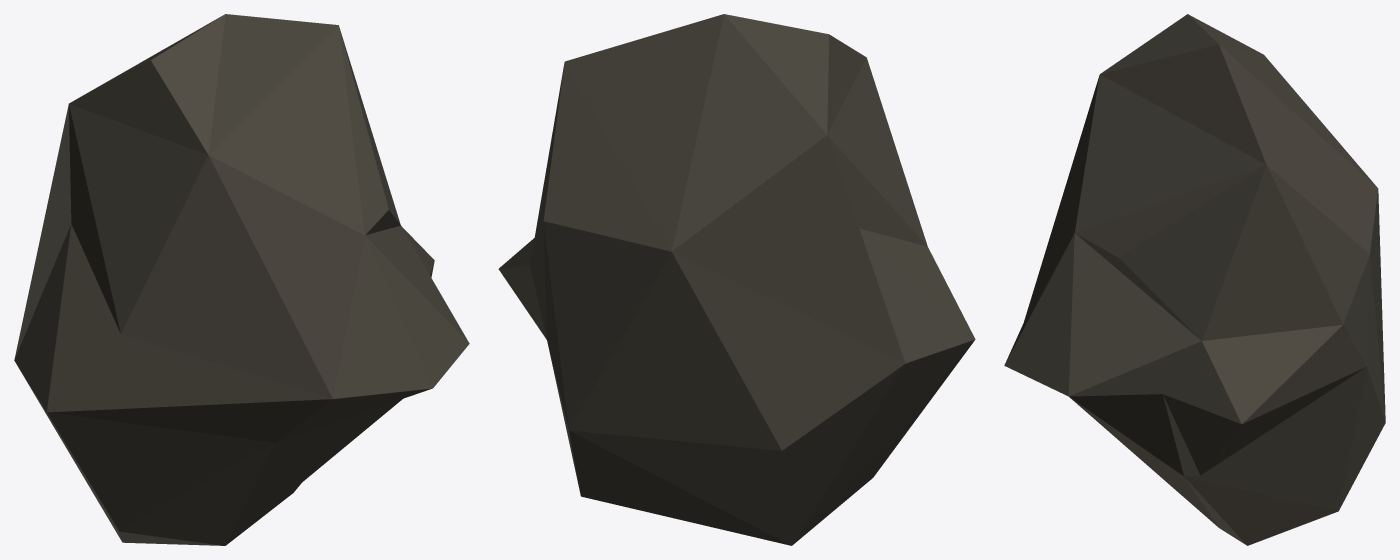
Rendered from MediumBoulder2.FBX.
3 renders of one model, left to right at view 1: azimuth 30°, elevation 25°; view 2: azimuth 150°, elevation 25°; view 3: azimuth 270°, elevation 25°, orthographic. The views are drawn at different scales.
Visible parts, largest first — view 1: MediumBoulder002; view 2: MediumBoulder002; view 3: MediumBoulder002.
Boxes of the visible parts, box(x1,y1,x2,y2) form: MediumBoulder002: box(14, 14, 469, 545); MediumBoulder002: box(498, 14, 975, 545); MediumBoulder002: box(1004, 14, 1385, 545).
Size of the model in its own units: 44.39 by 51.08 by 36.52.
